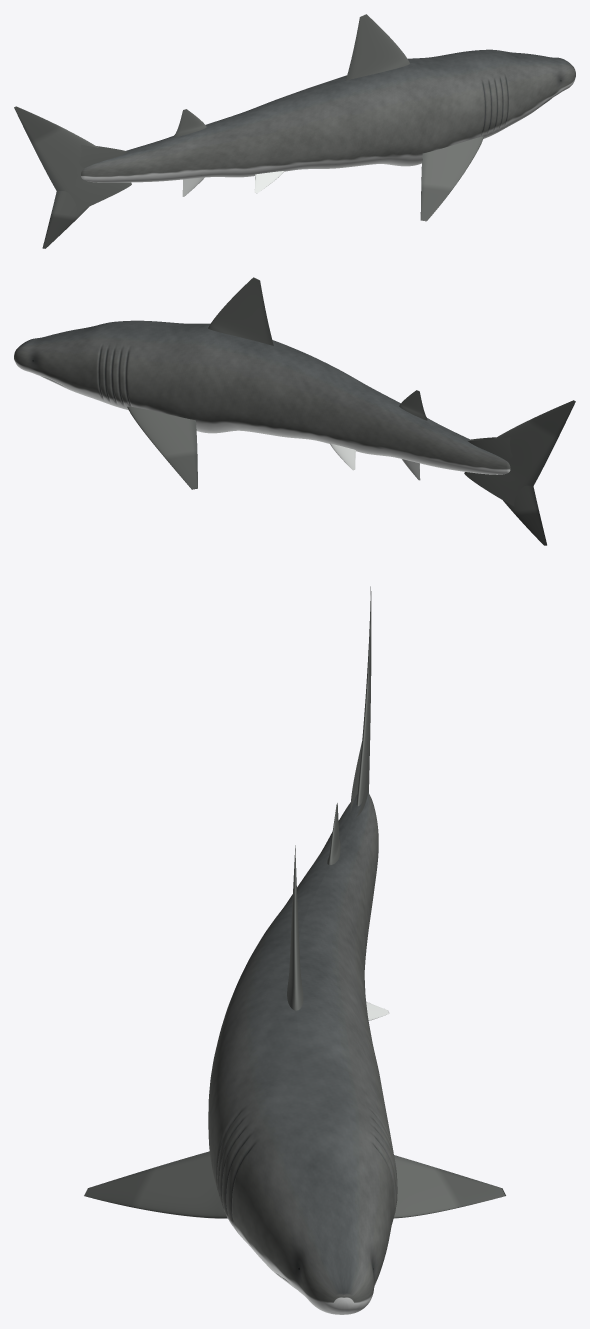
File: galapagos_shark.glb
3 renders of one model, top to bottom at view 1: azimuth 30°, elevation 25°; view 2: azimuth 150°, elevation 25°; view 3: azimuth 270°, elevation 25°, orthographic. The views are drawn at different scales.
Visible parts, largest first — view 1: galapagos_shark_Body, galapagos_shark_Fins; view 2: galapagos_shark_Body, galapagos_shark_Fins; view 3: galapagos_shark_Body, galapagos_shark_Fins.
Boxes of the visible parts, <box> form: galapagos_shark_Body: <box>81,49,575,182</box>; galapagos_shark_Fins: <box>14,14,483,248</box>; galapagos_shark_Body: <box>14,320,510,474</box>; galapagos_shark_Fins: <box>127,277,575,545</box>; galapagos_shark_Body: <box>208,792,397,1314</box>; galapagos_shark_Fins: <box>84,586,505,1218</box>.
Bounding box in the file's own units: 3 × 0.9052 × 0.9923.
3 materials, 1 textured.
